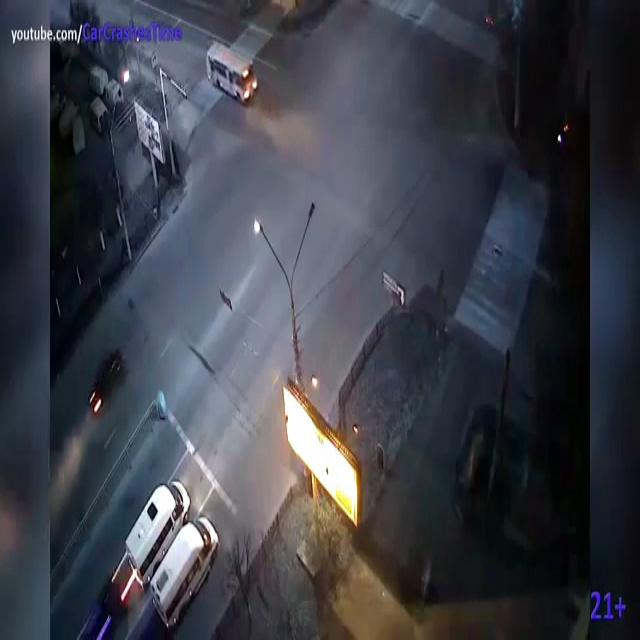acc: (69, 508, 150, 640)
